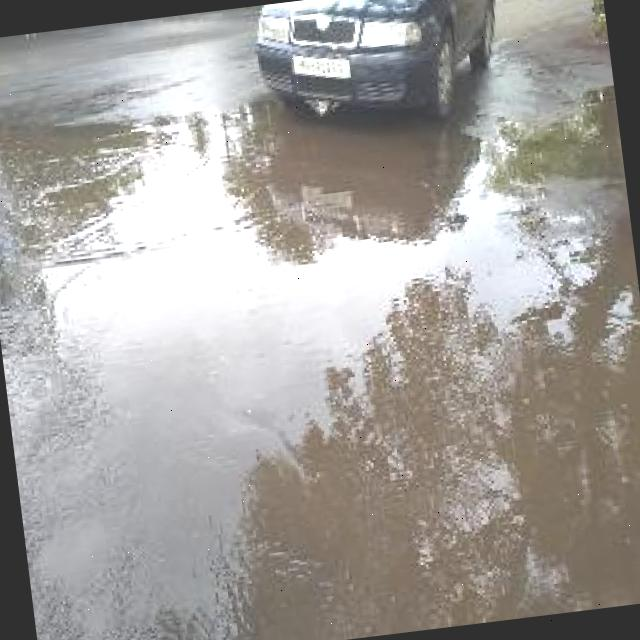waterlogging: (0, 85, 242, 258)
